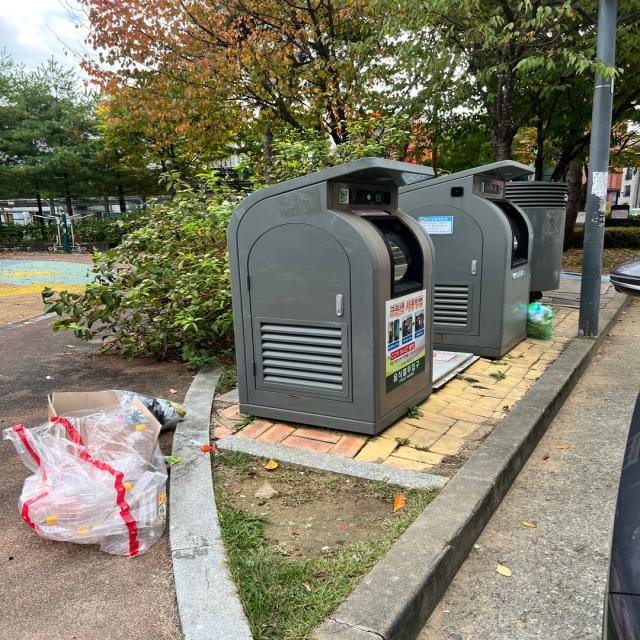CleanNet: (218, 149, 450, 439), (383, 155, 540, 368)
General Waste: (0, 380, 180, 552), (530, 301, 564, 352)
